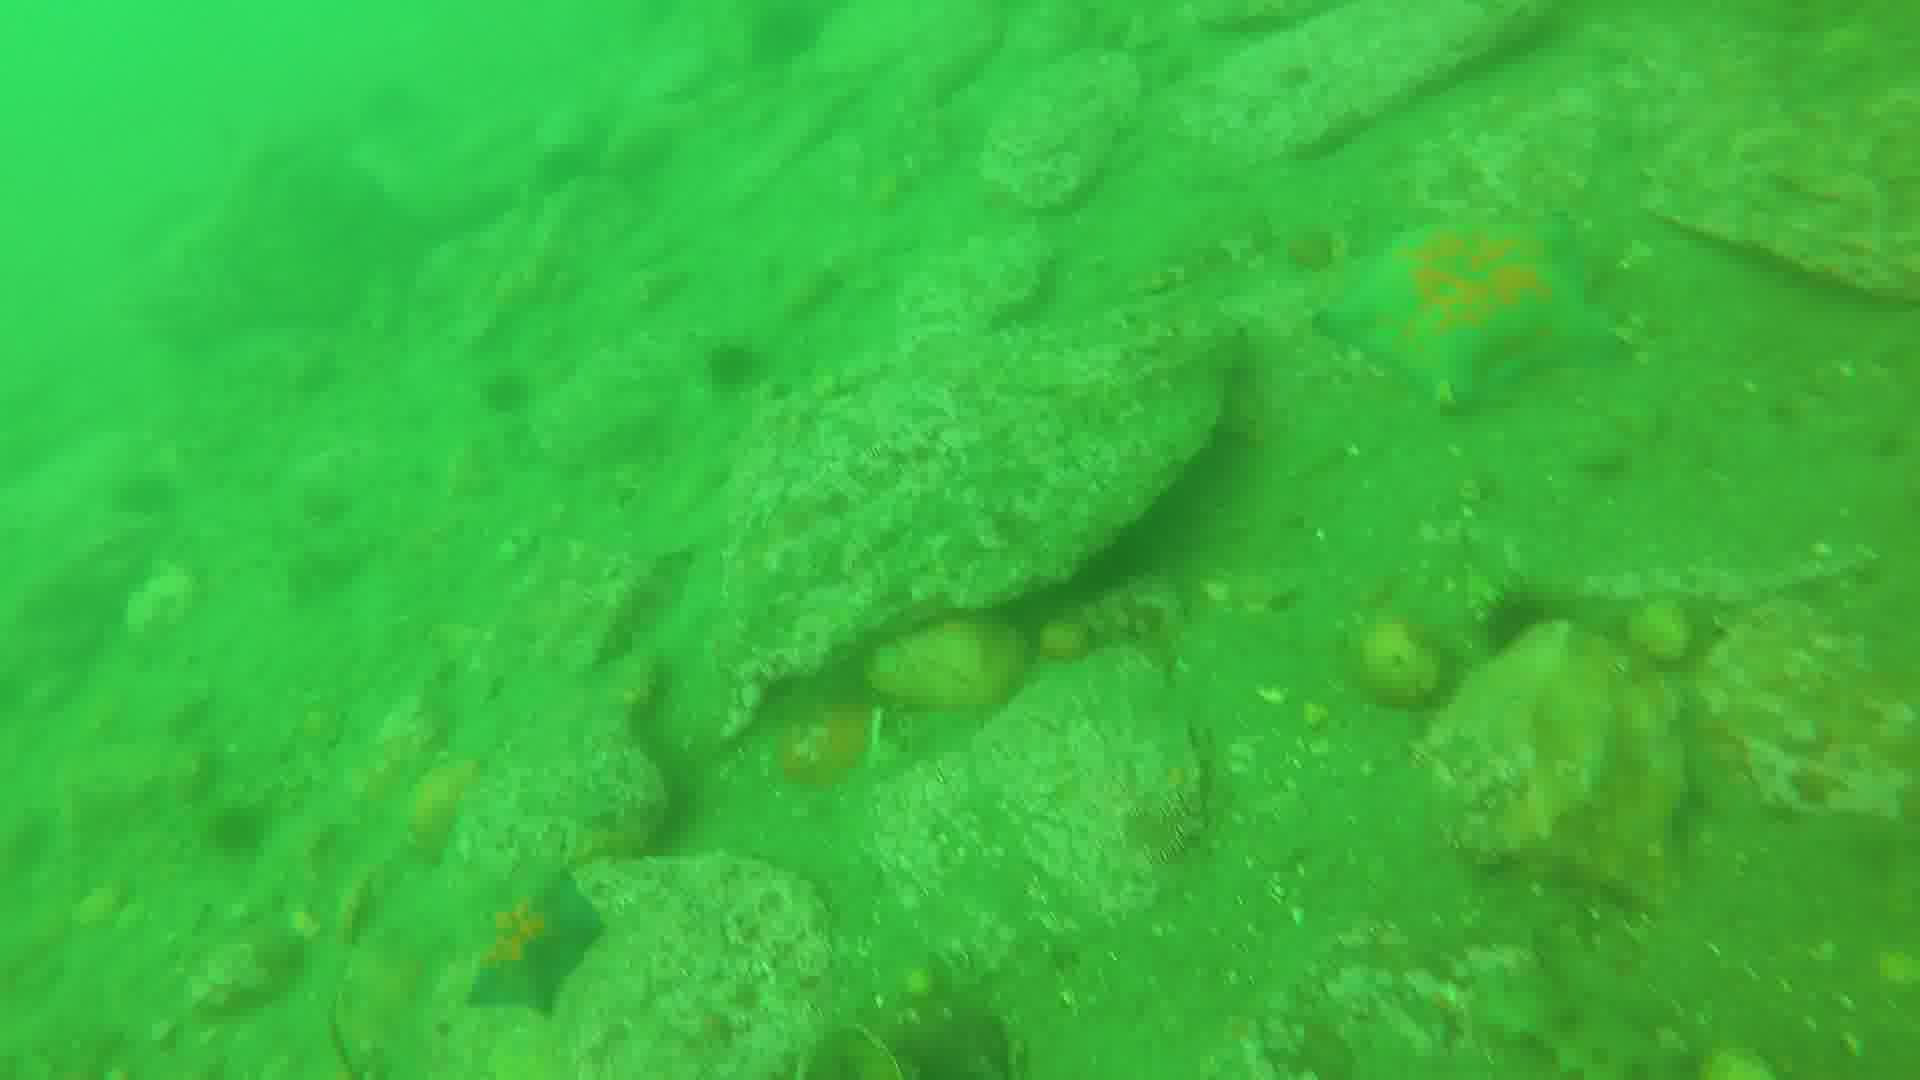echinus: (705, 335, 783, 394), (198, 800, 269, 858), (465, 367, 545, 413)
starfish: (1307, 223, 1629, 415), (465, 878, 607, 1021)
